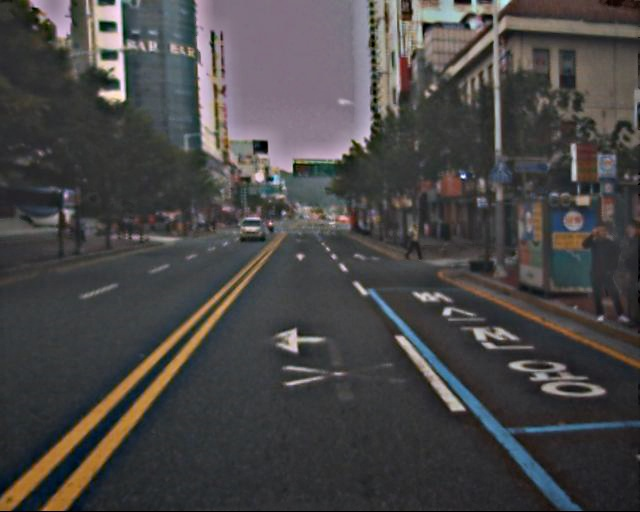person: (572, 224, 628, 327), (599, 223, 640, 323), (405, 219, 424, 265)
